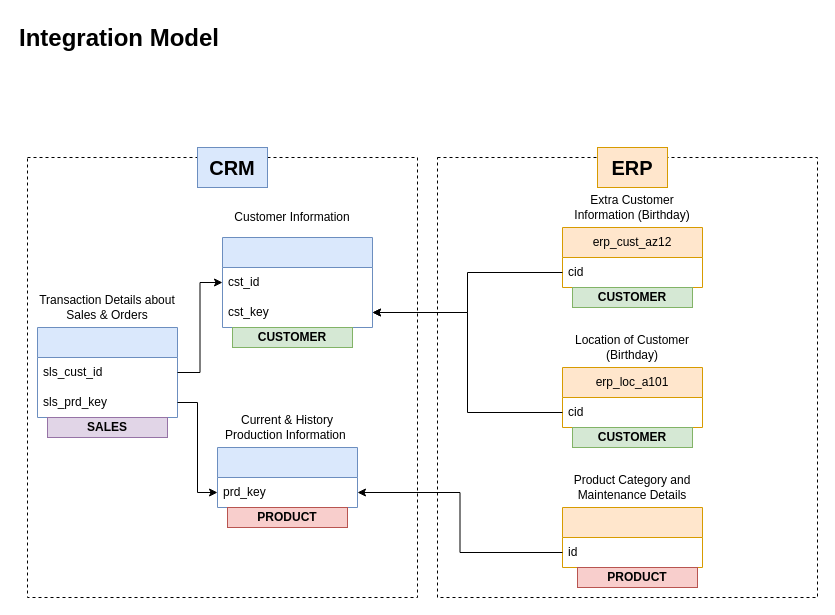
The diagram is 835 pixels wide and 615 high, and some of its shapes have lost their labels. Here are the shapes that lost their labels. From the top down, the box of each, then its label:
(222, 236, 372, 328): crm_cust_info
(36, 326, 178, 418): crm_sales_details
(216, 446, 358, 508): crm_prd_info
(562, 506, 702, 568): px_cat_g1v2
